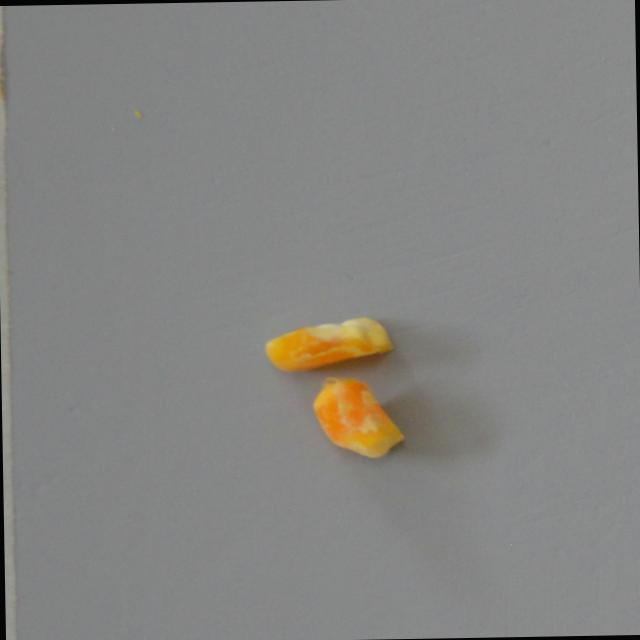pelicula: (309, 371, 408, 458), (264, 314, 397, 372)
